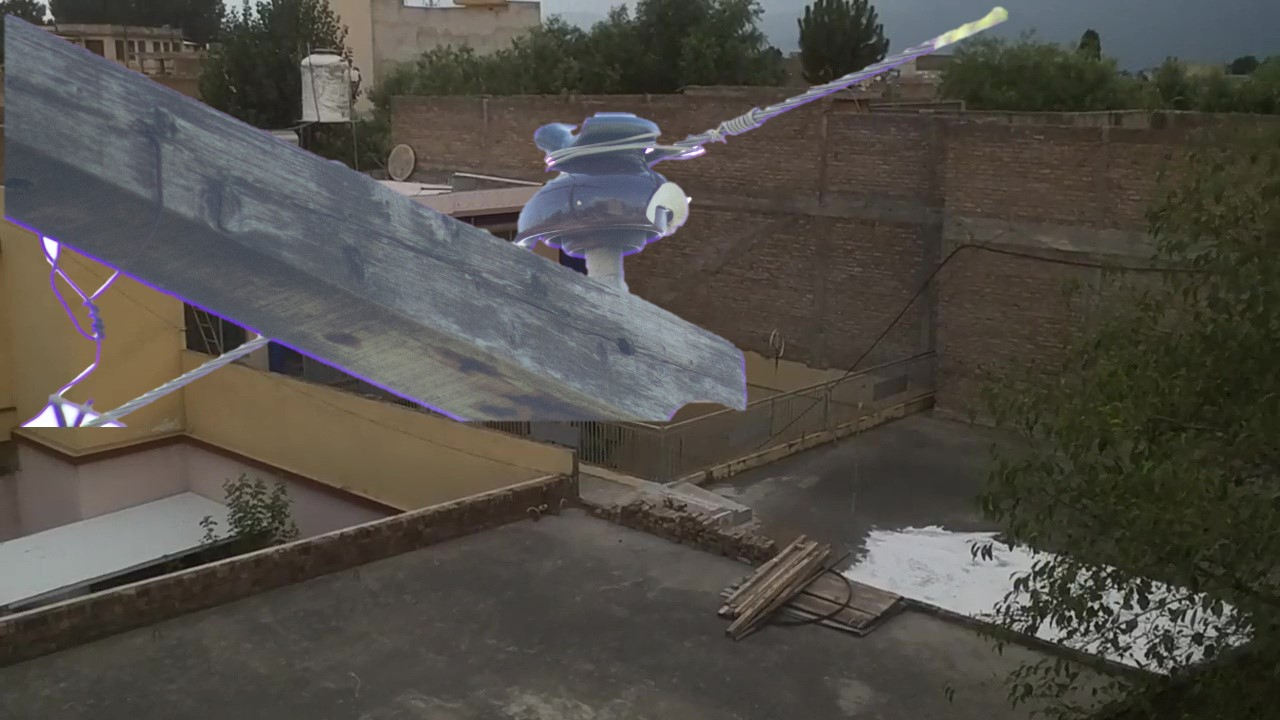defect_pin: (513, 100, 699, 268)
